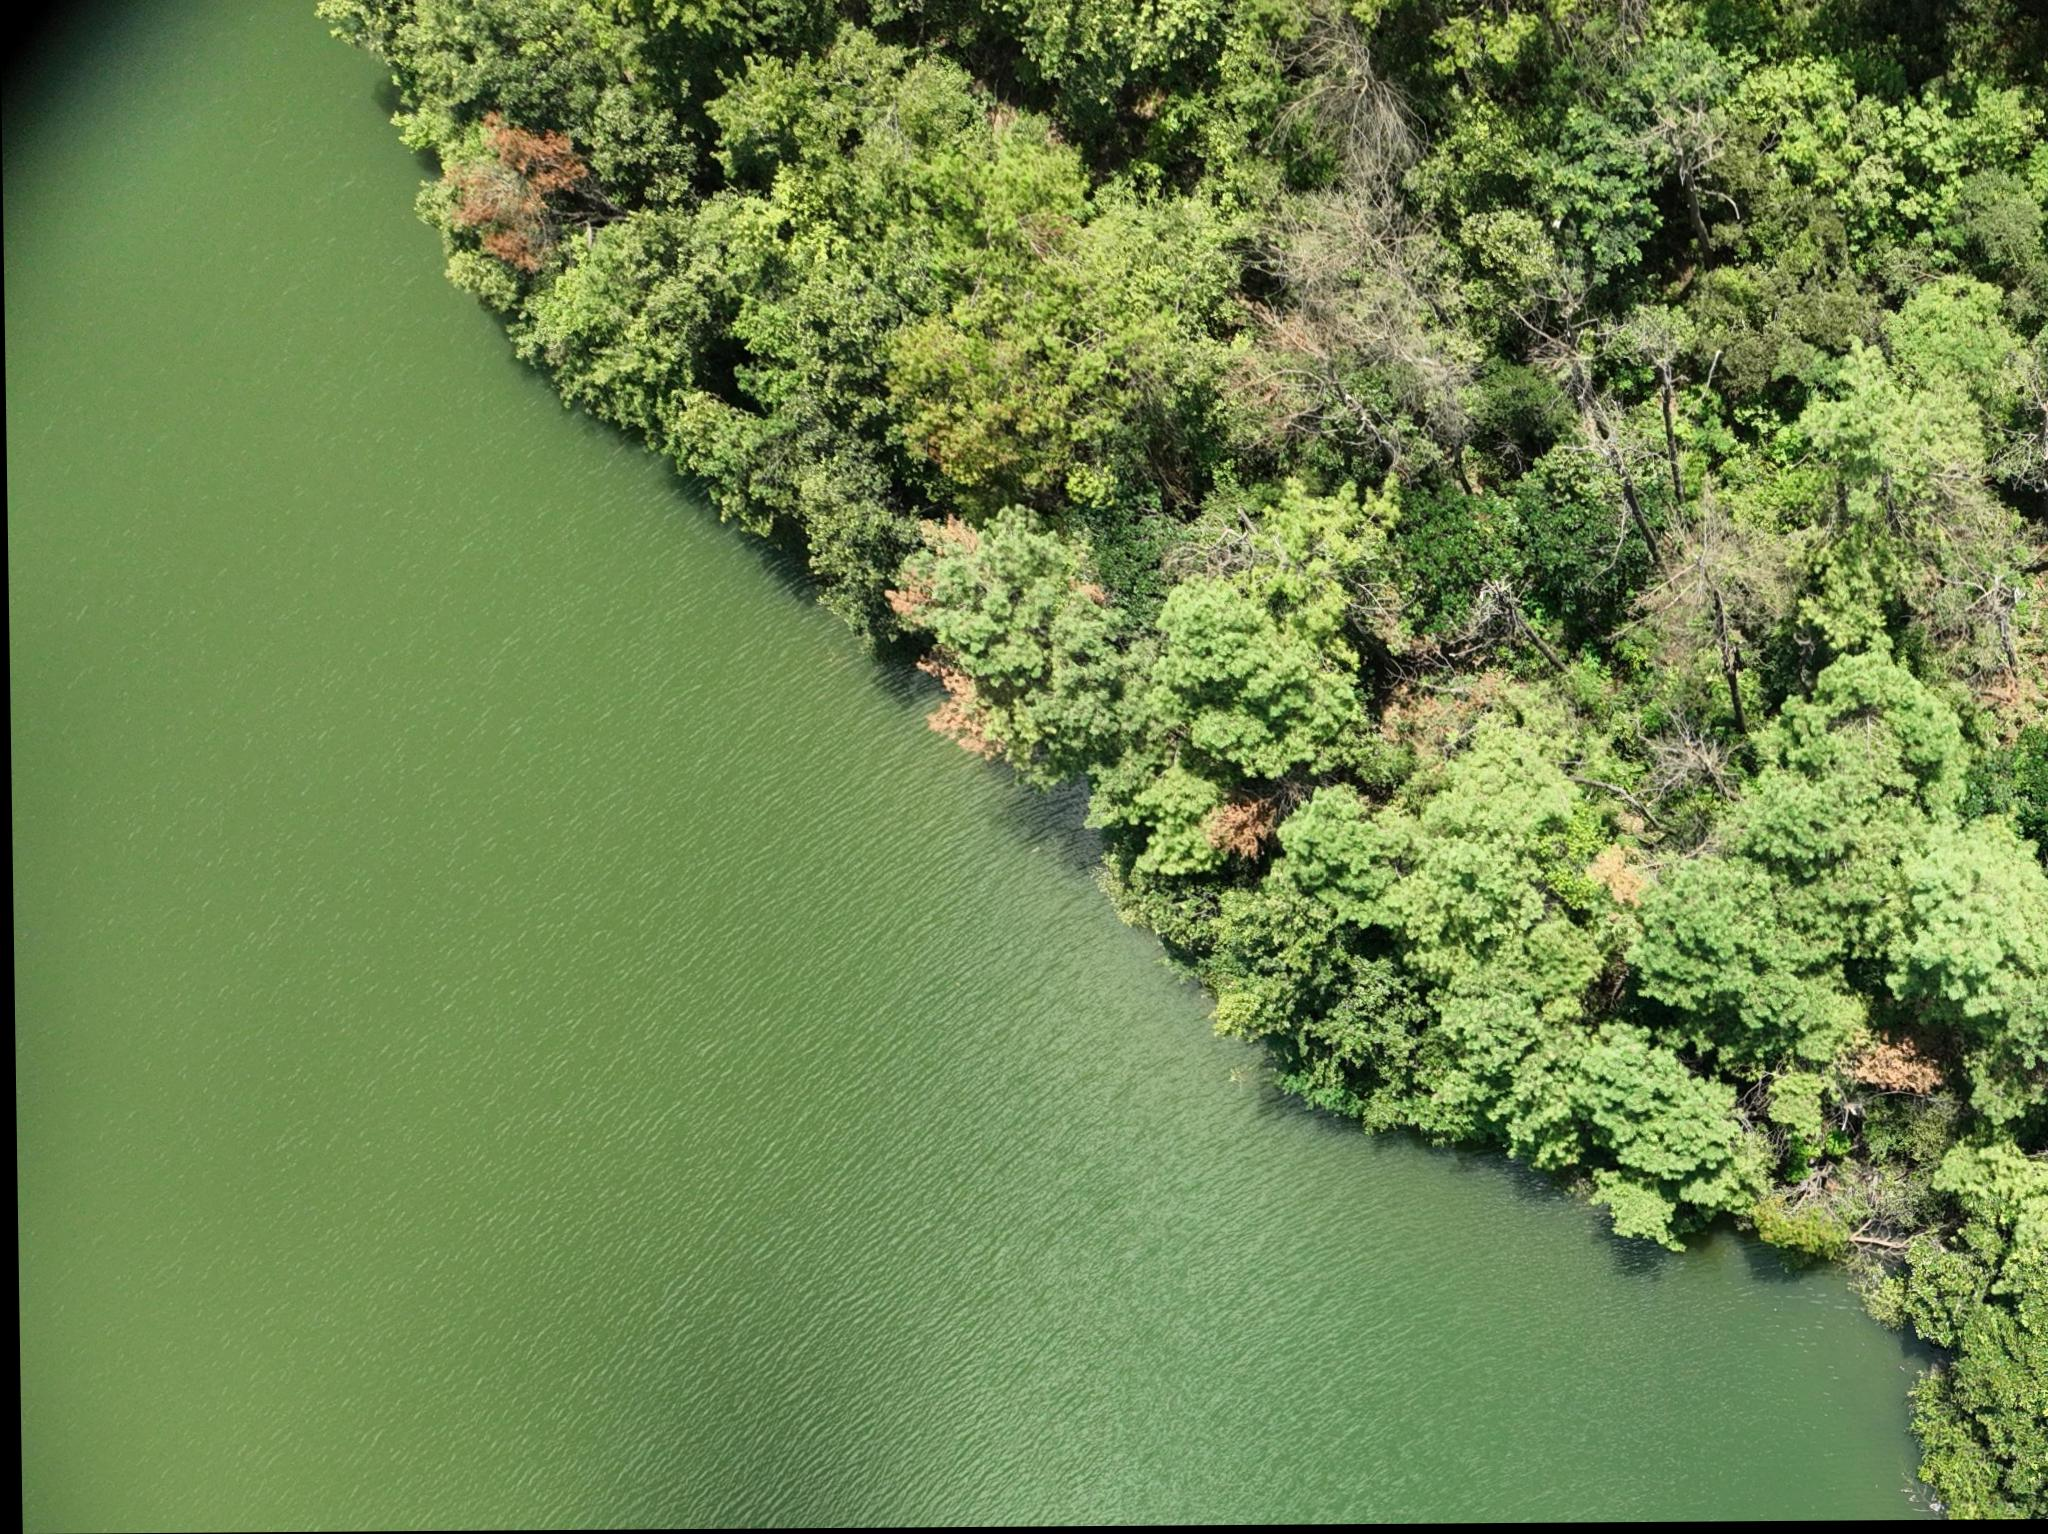dead: (1300, 29, 1415, 190), (1634, 722, 1735, 802)
heavy: (446, 103, 588, 276), (906, 651, 997, 773), (886, 509, 978, 619), (1200, 780, 1294, 869), (1842, 1034, 1943, 1109), (1587, 846, 1639, 915)
